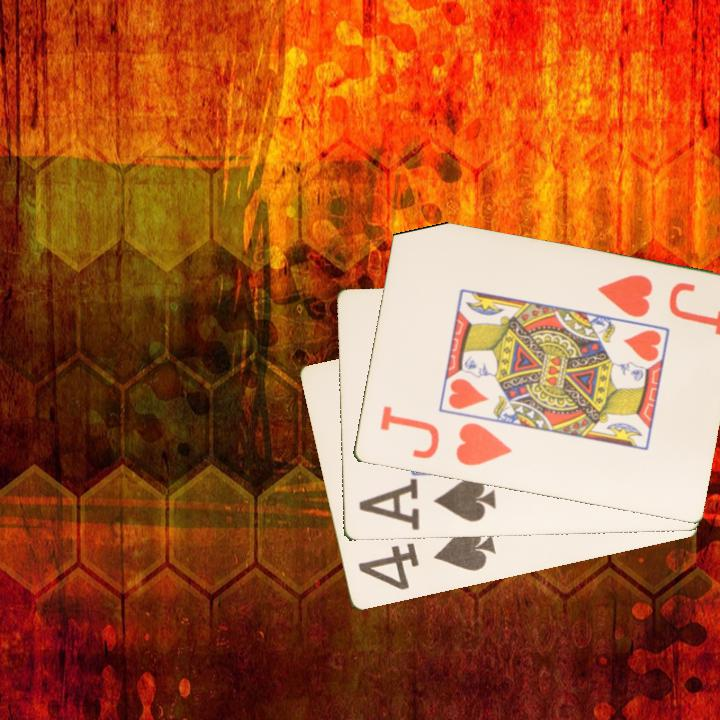4s: (354, 524, 499, 594)
As: (368, 475, 498, 525)
Jh: (375, 403, 515, 469), (593, 271, 655, 321)
